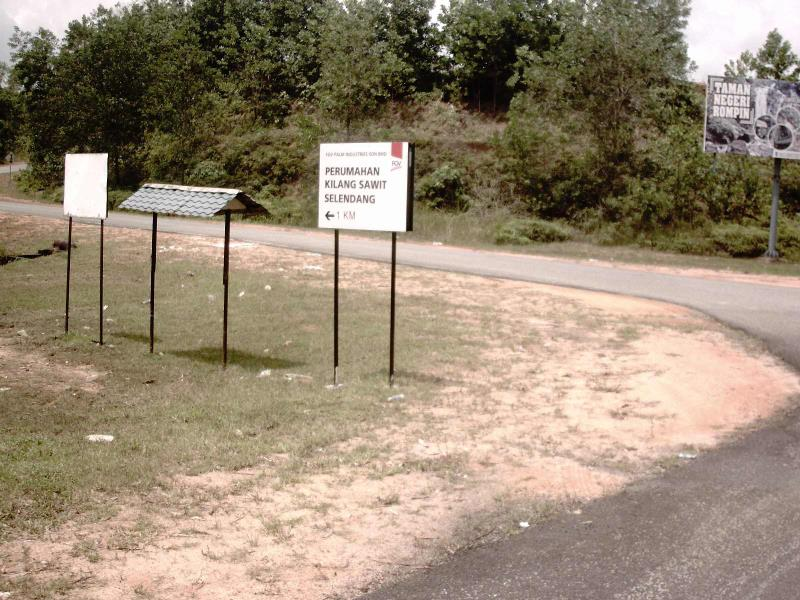ads_sign: (304, 131, 424, 239)
